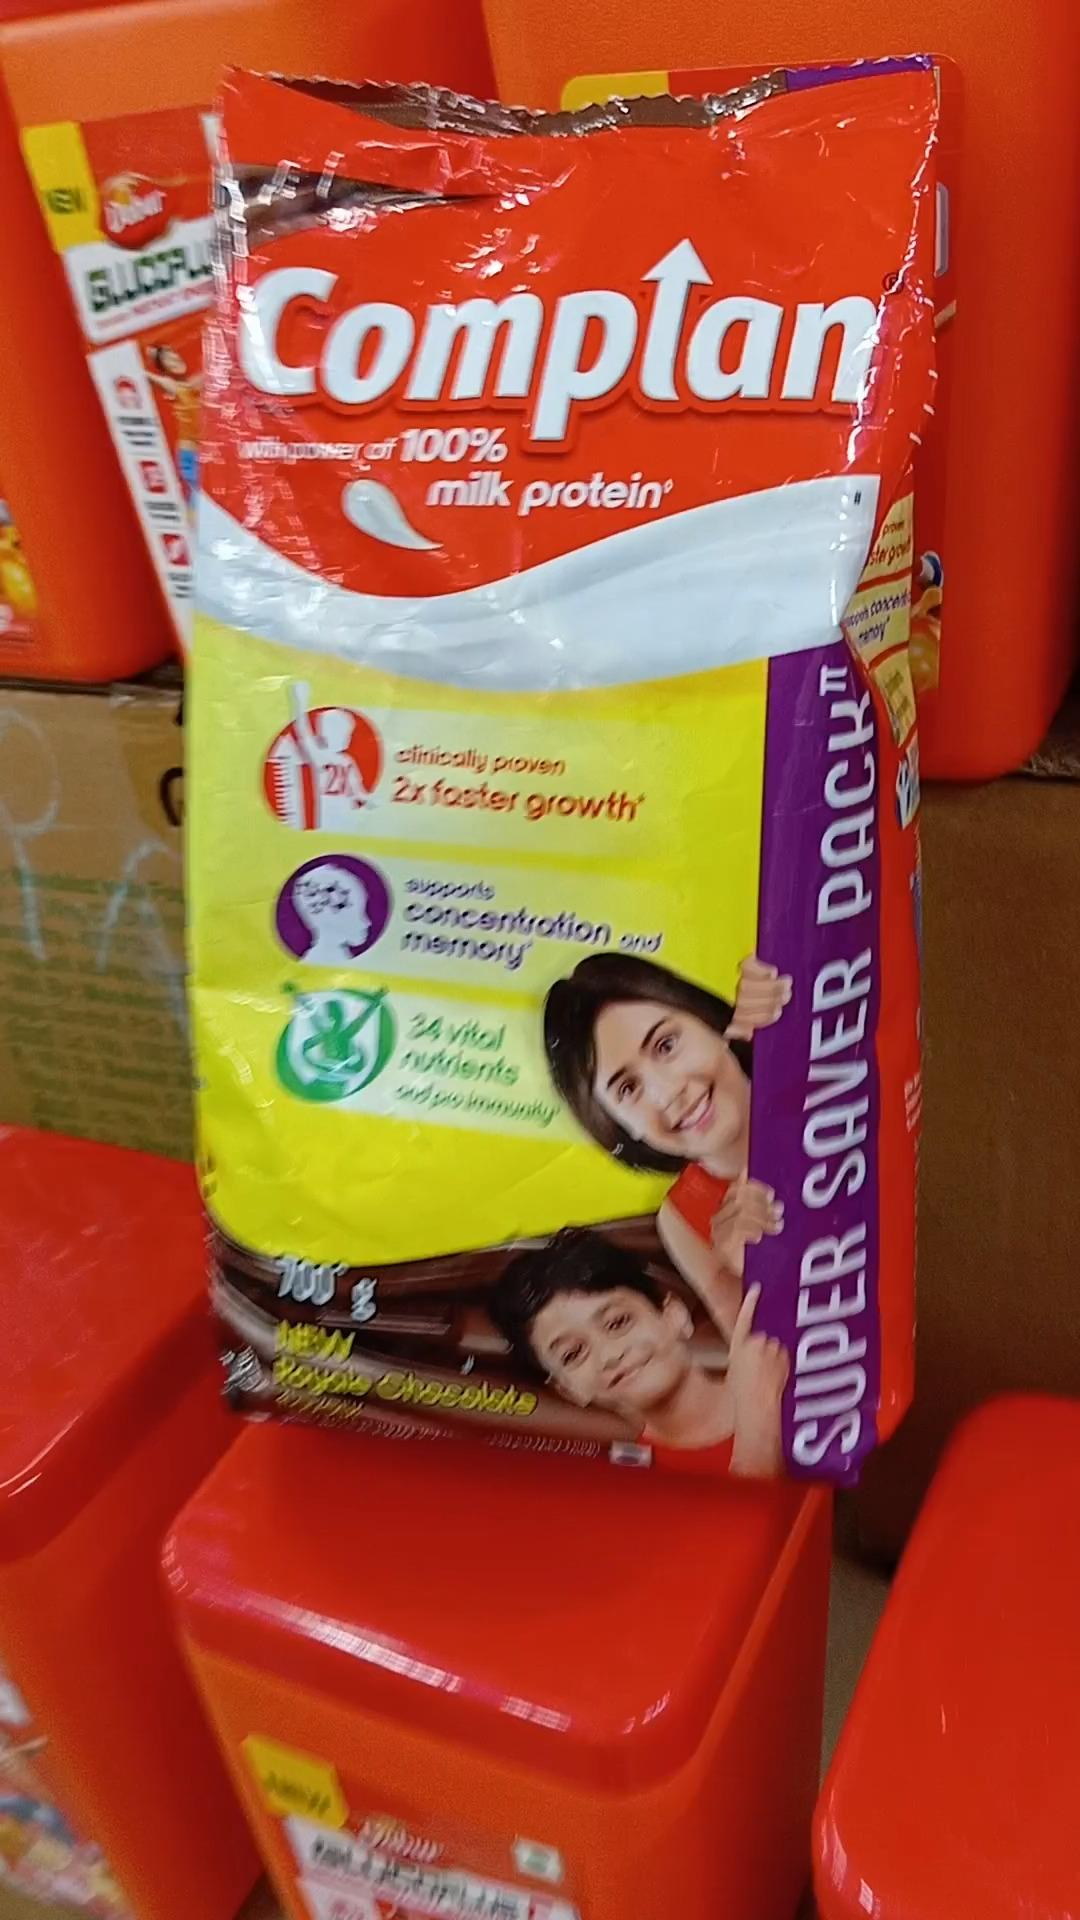COMPLAN_RC_POUCH_700_GMS_12: (193, 88, 897, 1486)
